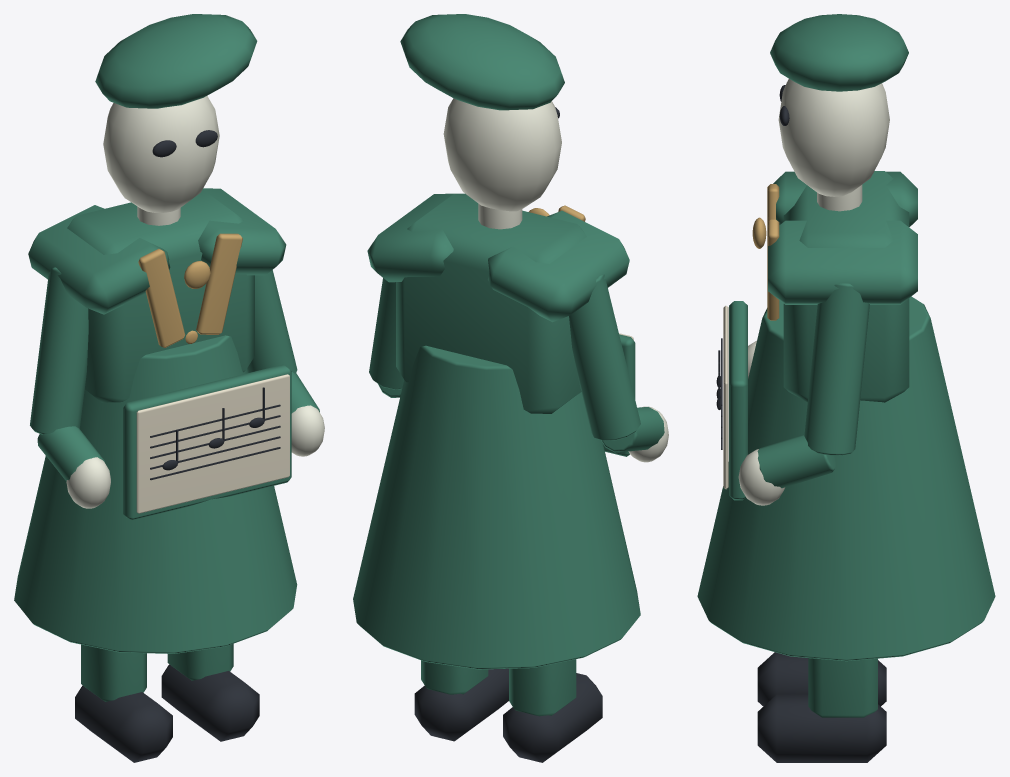
Rendered from traveler_soloist.glb.
3 views of the same model, side by side, from view 1: azimuth 30°, elevation 25°; view 2: azimuth 150°, elevation 25°; view 3: azimuth 270°, elevation 25° (orthographic). The views are drawn at different scales.
Parts seen in each view (by area): view 1: traveler_soloist; view 2: traveler_soloist; view 3: traveler_soloist.
Part boxes in pixels (x1,y1,x2,y2): traveler_soloist: (14,14,324,762); traveler_soloist: (353,14,668,762); traveler_soloist: (697,14,995,762).
Bounding box in the file's own units: 0.9034 × 2.29 × 0.8563.
